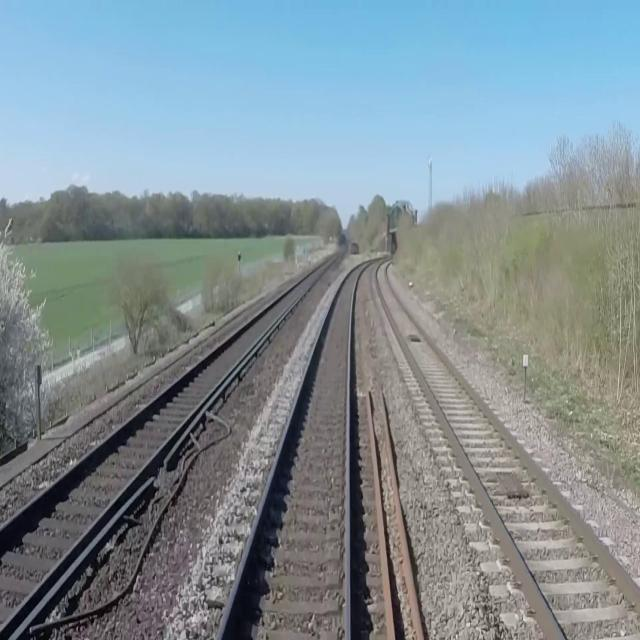rail-track: (0, 256, 337, 625), (377, 261, 640, 639), (220, 261, 370, 639)
